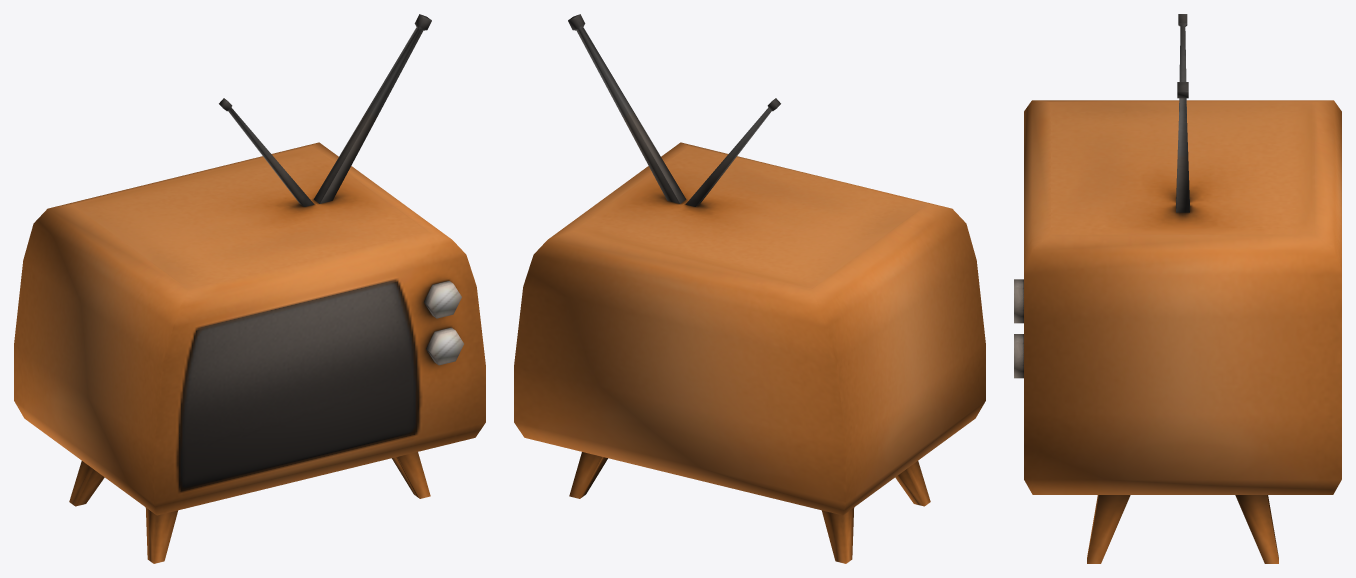
The picture shows the model from 3 angles, left to right: view 1: azimuth 30°, elevation 25°; view 2: azimuth 150°, elevation 25°; view 3: azimuth 270°, elevation 25°; orthographic projection. The views are drawn at different scales.
Parts seen in each view (by area): view 1: TV; view 2: TV; view 3: TV.
Part boxes in pixels (x1,y1,x2,y2): TV: (14,14,485,563); TV: (514,14,985,563); TV: (1014,14,1341,563).
Size of the model in its own units: 2.85 by 3.48 by 2.06.
